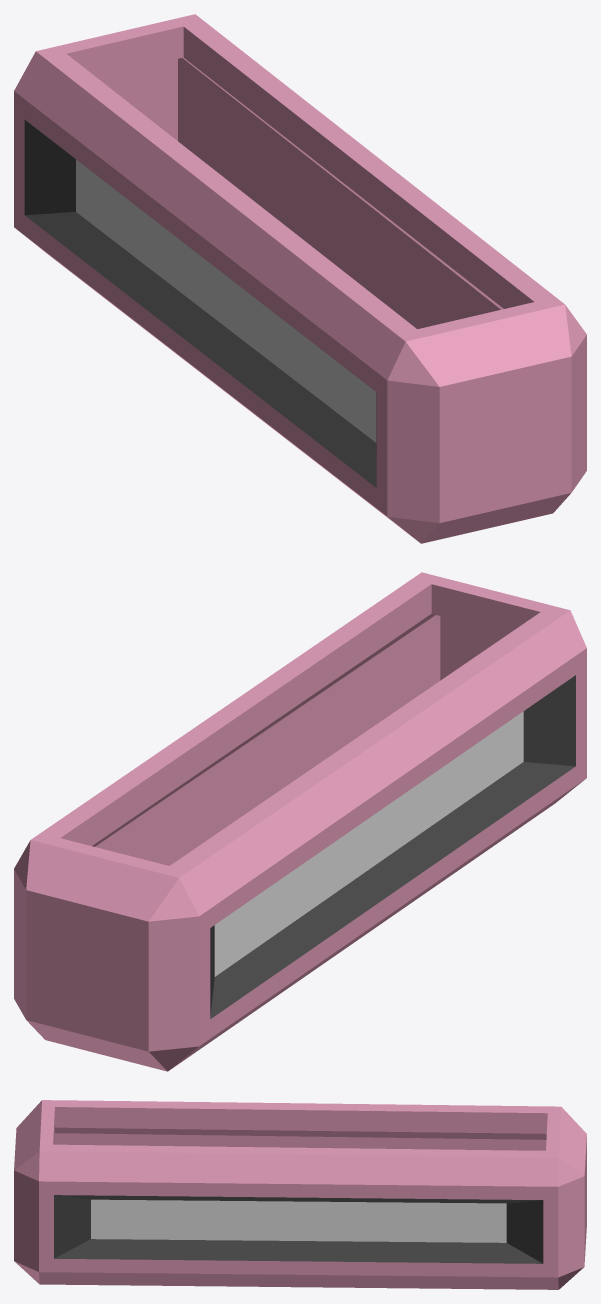
File: Spider Island Level 1 Rectangle Box.fbx
3 renders of one model, top to bottom at view 1: azimuth 30°, elevation 25°; view 2: azimuth 150°, elevation 25°; view 3: azimuth 270°, elevation 25°, orthographic. The views are drawn at different scales.
Visible parts, largest first — view 1: Cube; view 2: Cube; view 3: Cube.
Boxes of the visible parts, bbox=[...] form: Cube: bbox=[14, 14, 586, 543]; Cube: bbox=[14, 572, 586, 1071]; Cube: bbox=[14, 1100, 586, 1289].
Bounding box in the file's own units: 0.8868 × 0.818 × 3.1.
